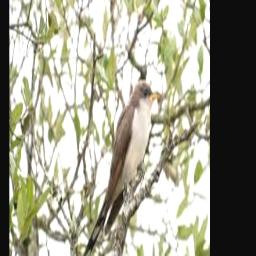Cuckoo: (75, 79, 158, 256)
